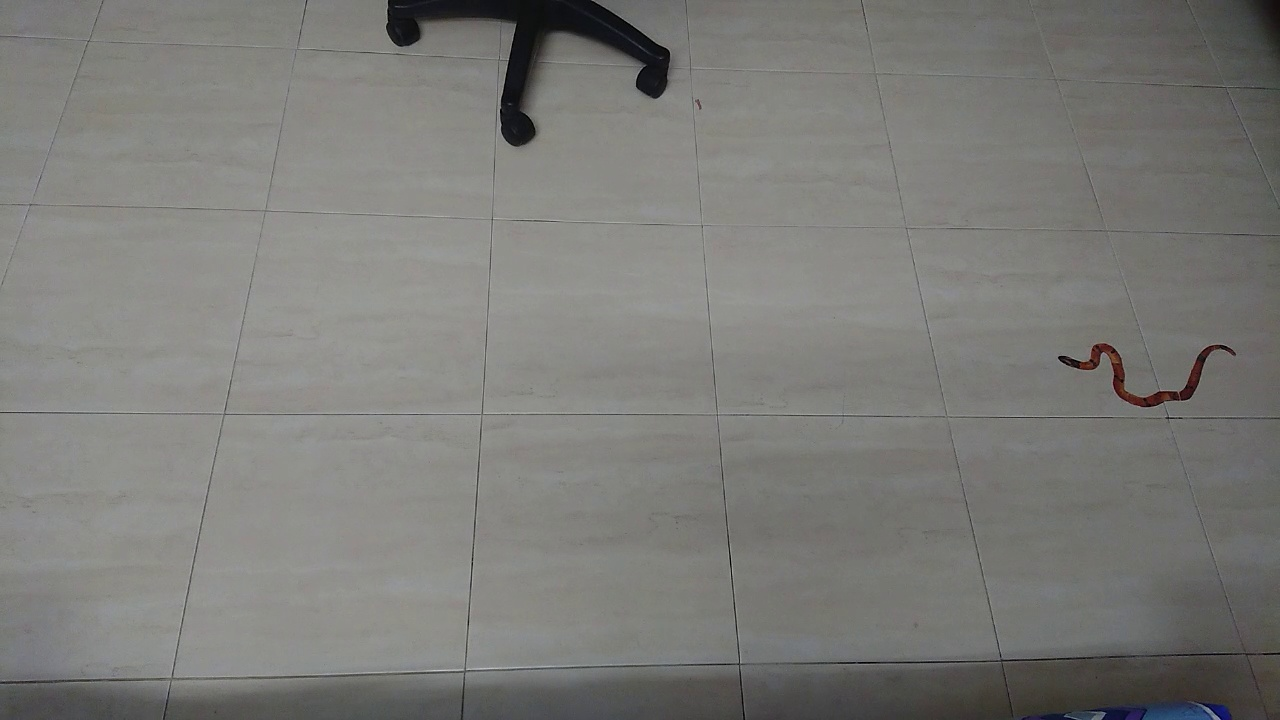snake: (1040, 320, 1252, 424)
